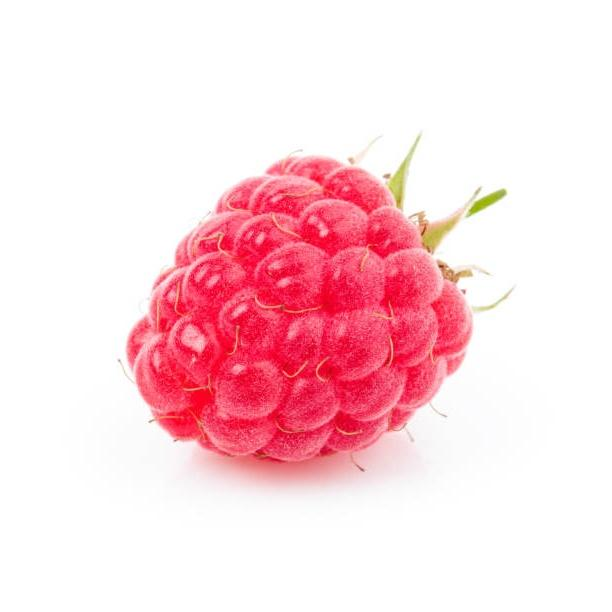peas: (121, 140, 494, 465)
raspberry: (263, 150, 396, 215)
